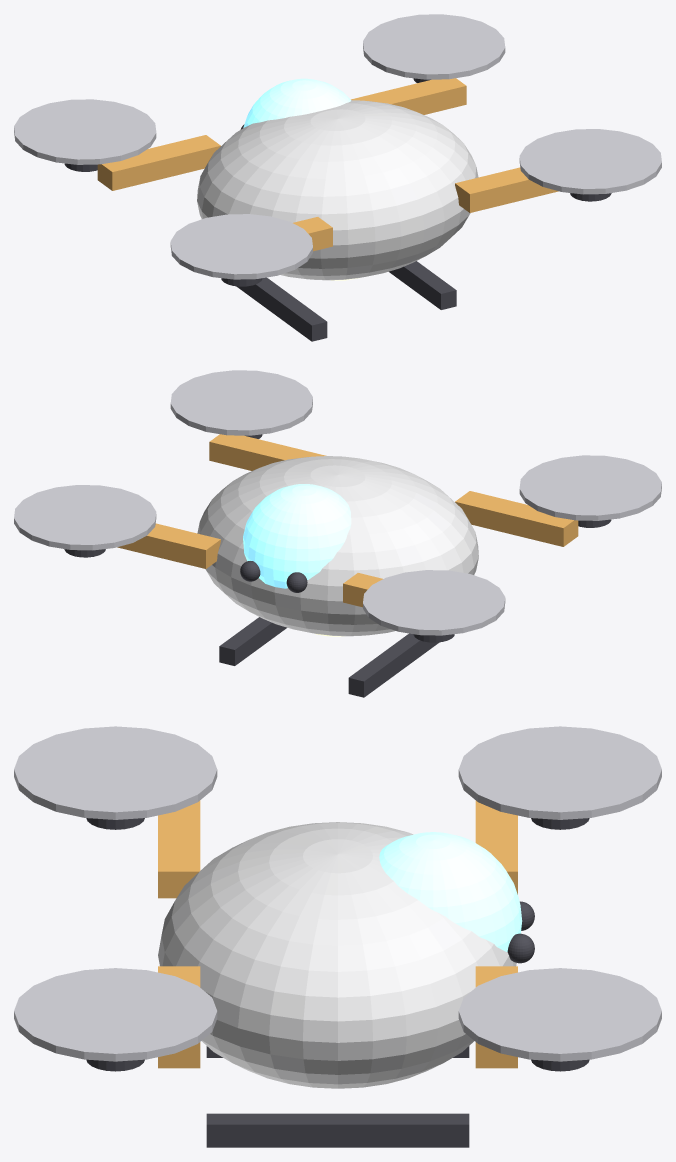
File: drone.glb
The picture shows the model from 3 angles, top to bottom: view 1: azimuth 30°, elevation 25°; view 2: azimuth 150°, elevation 25°; view 3: azimuth 270°, elevation 25°; orthographic projection. The views are drawn at different scales.
Parts seen in each view (by area): view 1: Body, Rotor.003, Rotor, Rotor.001, Rotor.002, Arm.001, Cockpit, Arm.002, Arm.003, SkidL, SkidR, Arm; view 2: Body, Cockpit, Rotor.002, Rotor, Rotor.001, Rotor.003, Arm, Arm.003, Arm.002, SkidL, SkidR, Arm.001; view 3: Body, Rotor, Rotor.001, Rotor.002, Rotor.003, Cockpit, SkidR, Arm, Arm.001, Arm.002, Arm.003, EyeR.
Boxes of the visible parts, x1,y1,x2,y2 form: Body: [197, 100, 478, 280]; Rotor.003: [363, 14, 505, 79]; Rotor: [170, 214, 312, 279]; Rotor.001: [14, 99, 156, 164]; Rotor.002: [519, 129, 661, 194]; Arm.001: [97, 135, 220, 190]; Cockpit: [243, 78, 350, 127]; Arm.002: [455, 167, 558, 212]; Arm.003: [351, 78, 466, 114]; SkidL: [236, 277, 327, 341]; SkidR: [389, 261, 456, 309]; Arm: [293, 217, 332, 251]; Body: [197, 456, 478, 636]; Cockpit: [243, 484, 351, 588]; Rotor.002: [170, 370, 312, 435]; Rotor: [519, 455, 661, 520]; Rotor.001: [363, 570, 505, 635]; Rotor.003: [14, 485, 156, 550]; Arm: [455, 491, 578, 546]; Arm.003: [117, 523, 220, 568]; Arm.002: [209, 434, 326, 470]; SkidL: [348, 633, 439, 697]; SkidR: [219, 617, 286, 665]; Arm.001: [343, 573, 382, 607]; Body: [158, 822, 516, 1088]; Rotor: [14, 726, 217, 819]; Rotor.001: [458, 726, 661, 819]; Rotor.002: [14, 968, 217, 1061]; Rotor.003: [458, 968, 661, 1061]; Cockpit: [379, 832, 522, 951]; SkidR: [206, 1113, 469, 1147]; Arm: [158, 800, 200, 898]; Arm.001: [475, 800, 517, 894]; Arm.002: [158, 966, 200, 1068]; Arm.003: [475, 966, 517, 1068]; EyeR: [507, 933, 534, 963].
Size of the model in its own units: 3.66 by 1.34 by 3.06.
